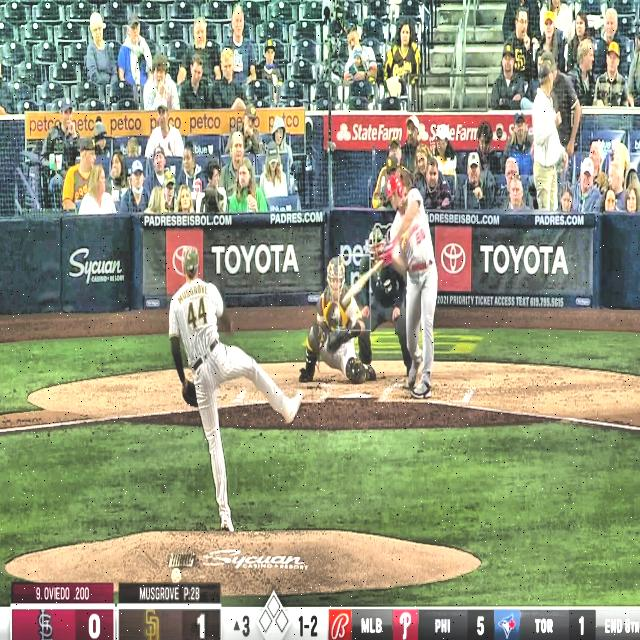baseball: (333, 307, 341, 320)
